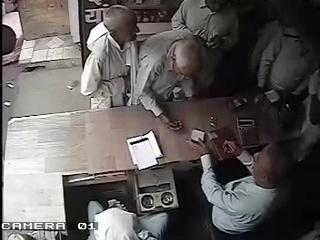Normal: (188, 131, 295, 240), (170, 0, 250, 98), (132, 29, 208, 130), (190, 128, 206, 144)
shoplifting: (80, 5, 140, 110)
